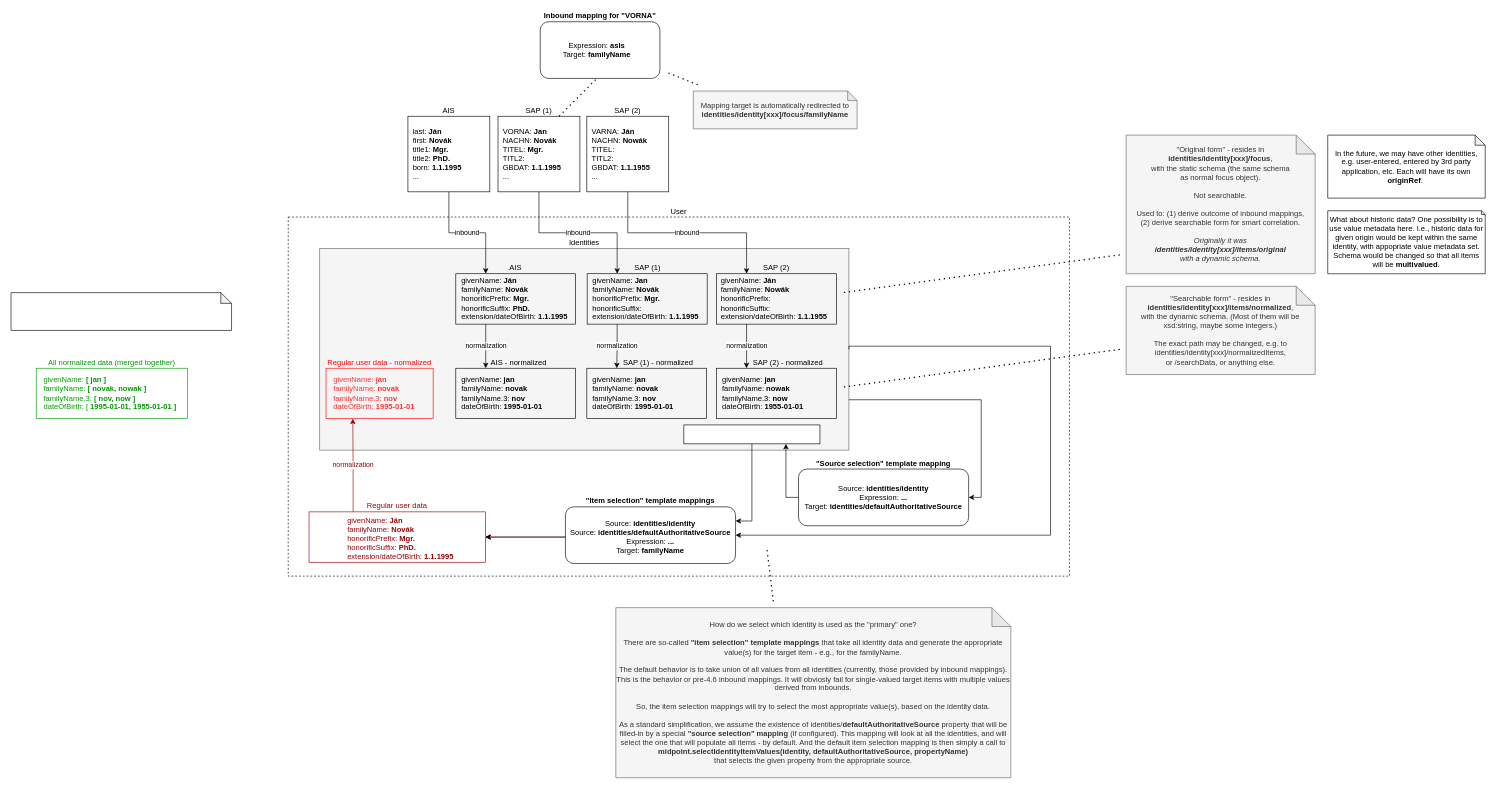
Image size: 1496x789. Some labels were removed from this diagram. Here are the shapes that lost their labels. From the top down, the centre of each, then its label:
the point at 121,311: An alternative: What if we merged all normalized data together?
the point at 751,434: defaultAuthoritativeSource property
